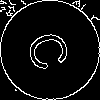C: (25, 25, 80, 74)
